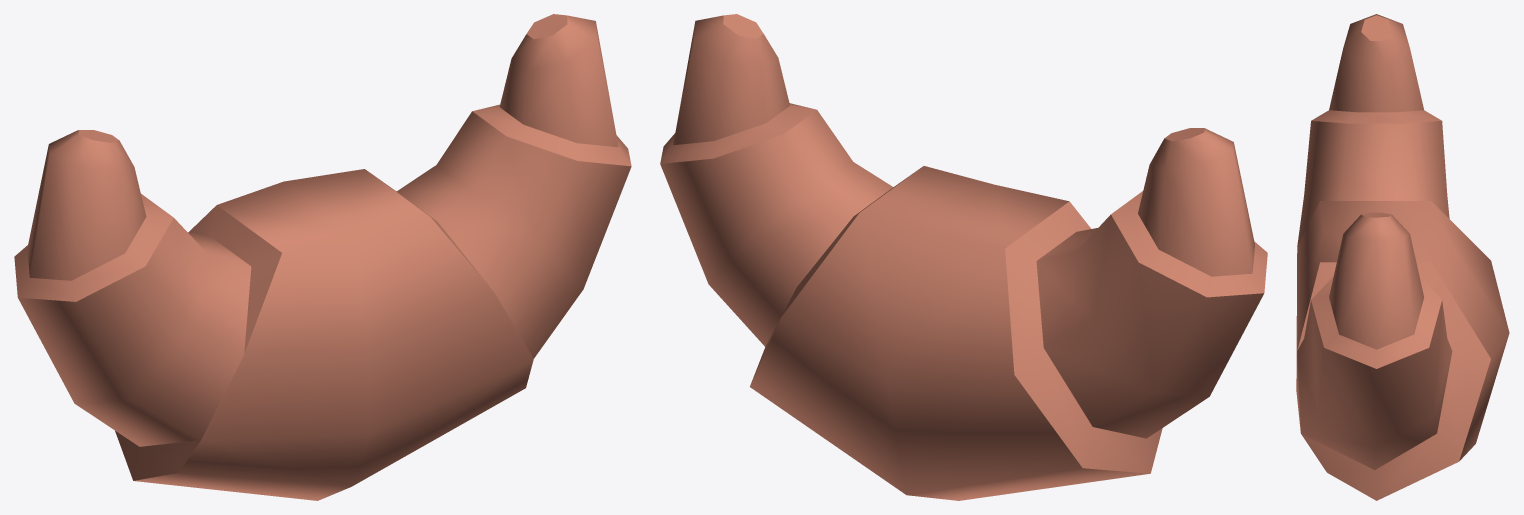
File: Croissant.fbx
3 renders of one model, left to right at view 1: azimuth 30°, elevation 25°; view 2: azimuth 150°, elevation 25°; view 3: azimuth 270°, elevation 25°, orthographic. The views are drawn at different scales.
Visible parts, largest first — view 1: Croissant; view 2: Croissant; view 3: Croissant.
Part boxes in pixels (bbox=[...]): Croissant: bbox=[14, 14, 631, 500]; Croissant: bbox=[660, 14, 1267, 500]; Croissant: bbox=[1296, 14, 1509, 500].
Bounding box in the file's own units: 187 × 126 × 66.67.
